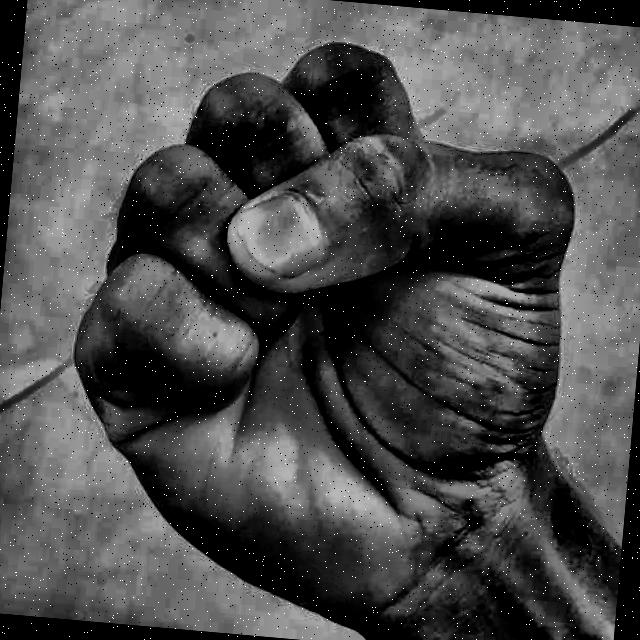Sha: (13, 7, 614, 640)
